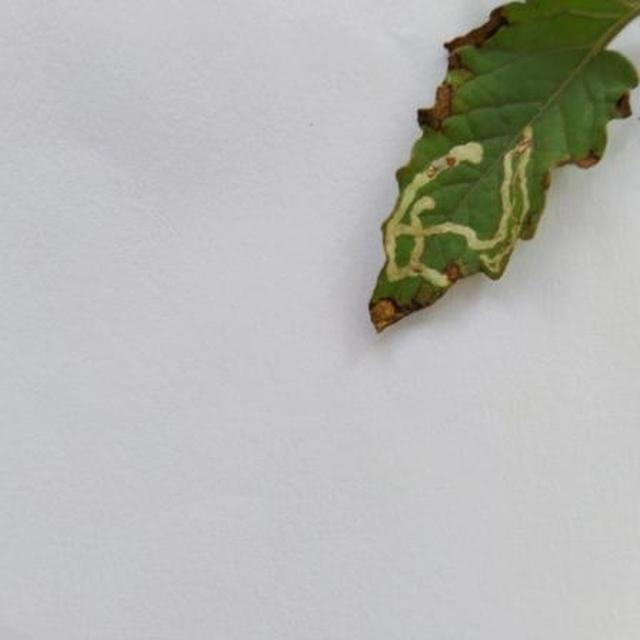Leaf Miner: (443, 0, 640, 484)
